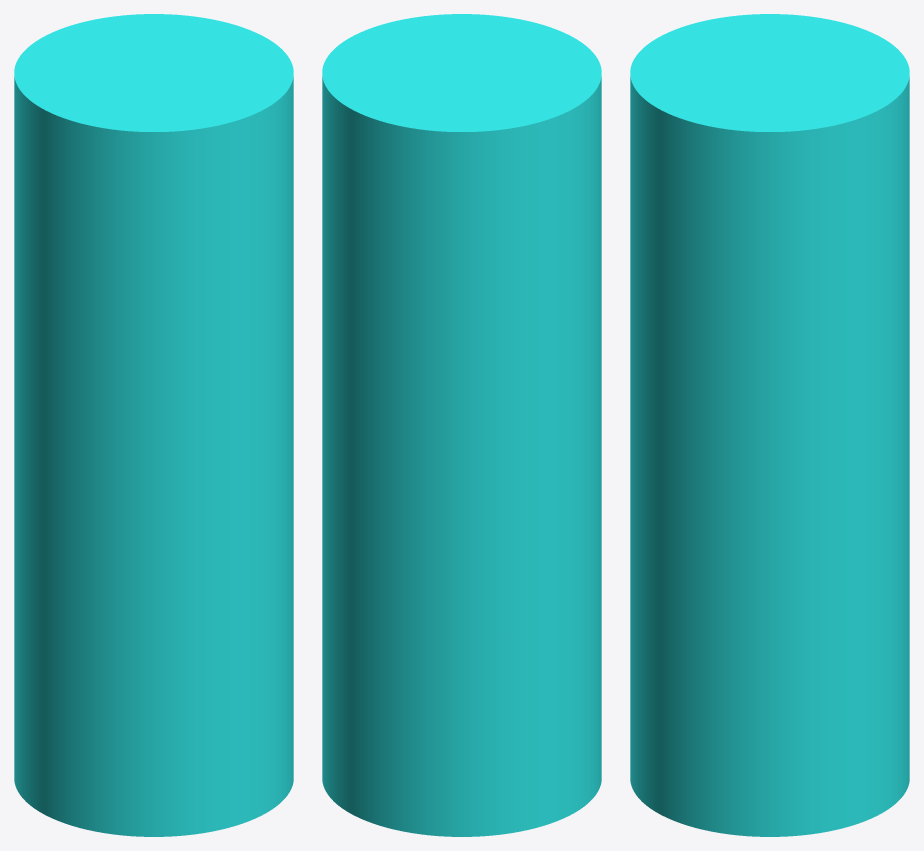
The model's file is original-5.obj.
The picture shows the model from 3 angles, left to right: view 1: azimuth 30°, elevation 25°; view 2: azimuth 150°, elevation 25°; view 3: azimuth 270°, elevation 25°; orthographic projection.
Visible parts, largest first — view 1: #ID21; view 2: #ID21; view 3: #ID21.
Boxes of the visible parts, left/top/right/bottom form: #ID21: left=14, top=14, right=293, bottom=836; #ID21: left=322, top=14, right=601, bottom=836; #ID21: left=630, top=14, right=909, bottom=836.
Bounding box in the file's own units: 0.0211 × 0.0588 × 0.0211.
